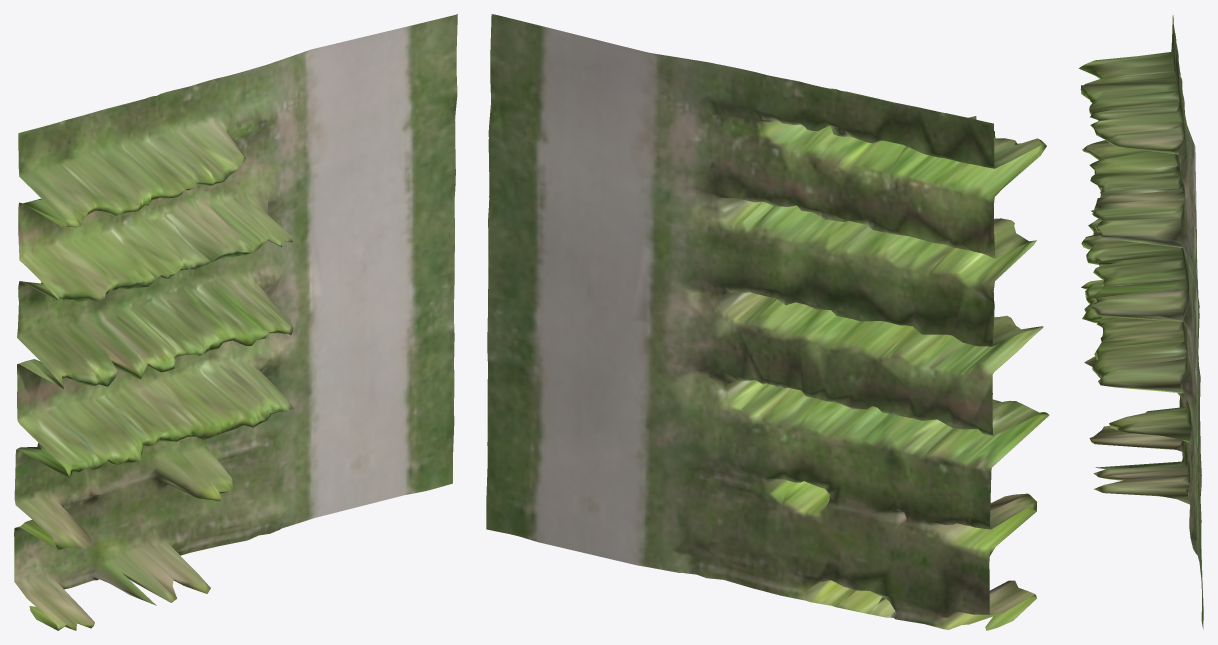
File: map_200_80.obj
The picture shows the model from 3 angles, left to right: view 1: azimuth 30°, elevation 25°; view 2: azimuth 150°, elevation 25°; view 3: azimuth 270°, elevation 25°; orthographic projection. The views are drawn at different scales.
Visible parts, largest first — view 1: map_200_80.obj; view 2: map_200_80.obj; view 3: map_200_80.obj.
Part boxes in pixels (bbox=[...]): map_200_80.obj: bbox=[14, 14, 457, 630]; map_200_80.obj: bbox=[486, 14, 1049, 630]; map_200_80.obj: bbox=[1078, 15, 1203, 629].
Size of the model in its own units: 10 by 10 by 2.7.
Materials: 1 (1 with a texture image).
